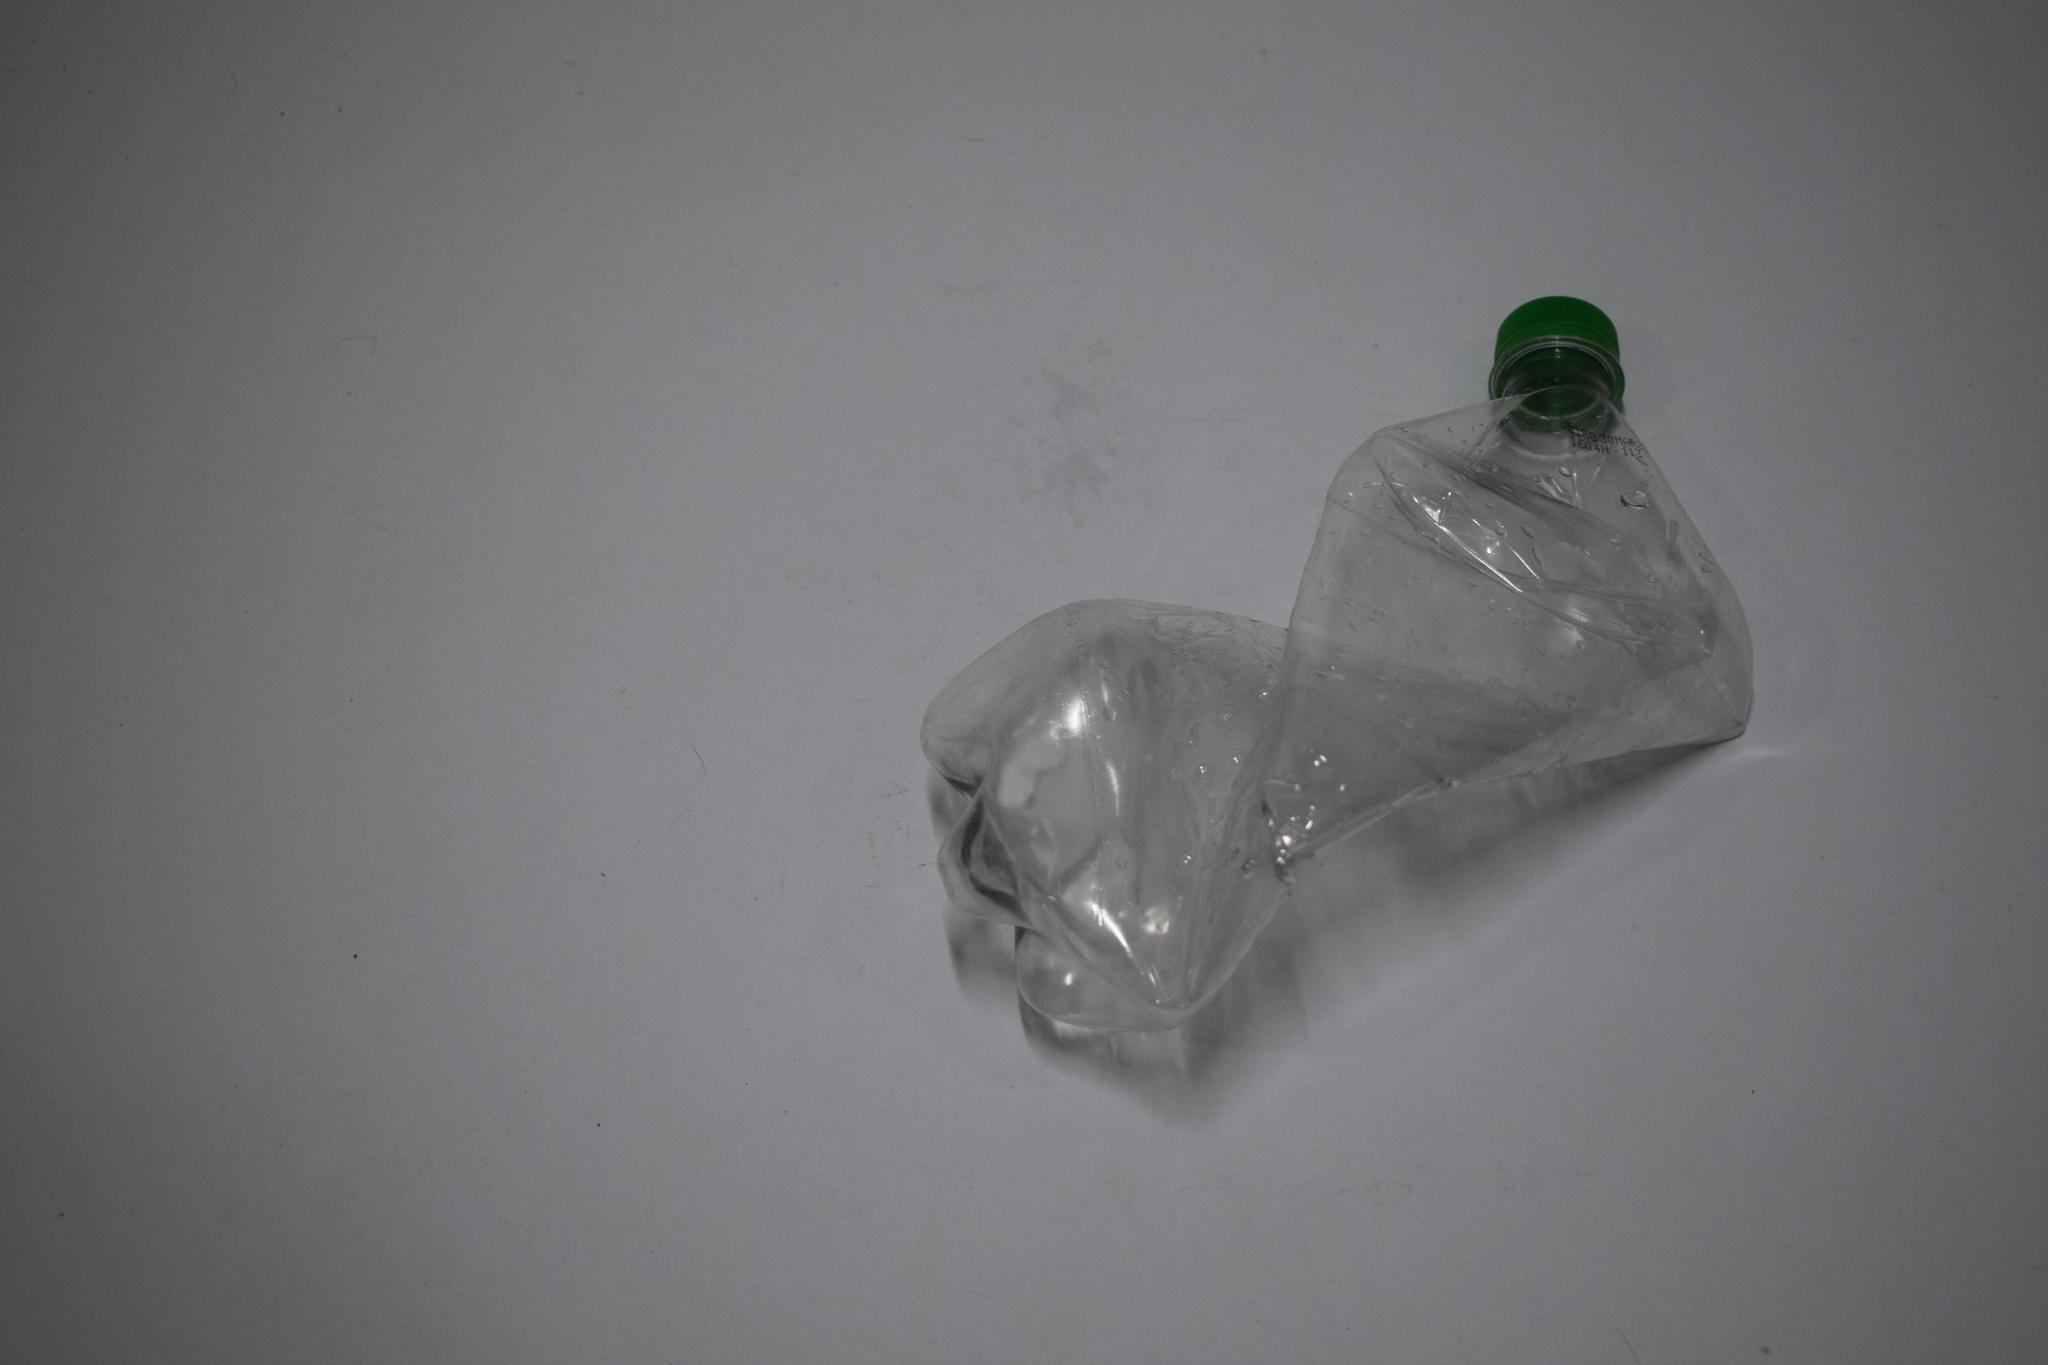bottle: (918, 285, 1757, 1059)
